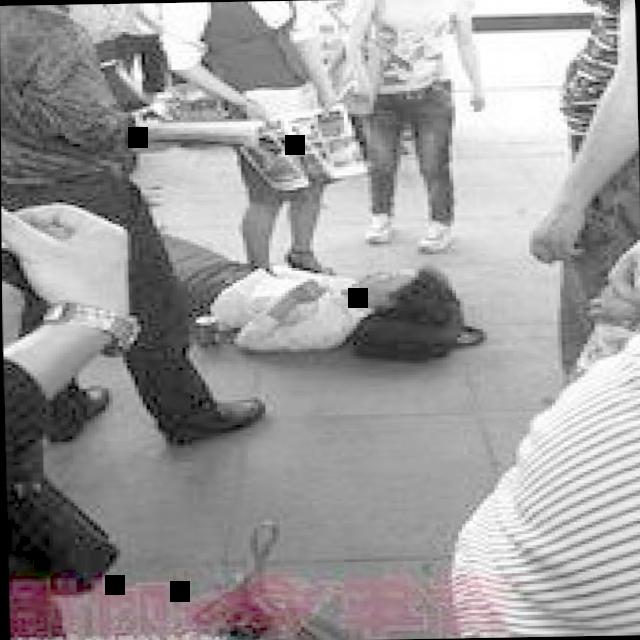Fall-Detected: (40, 206, 490, 364)
